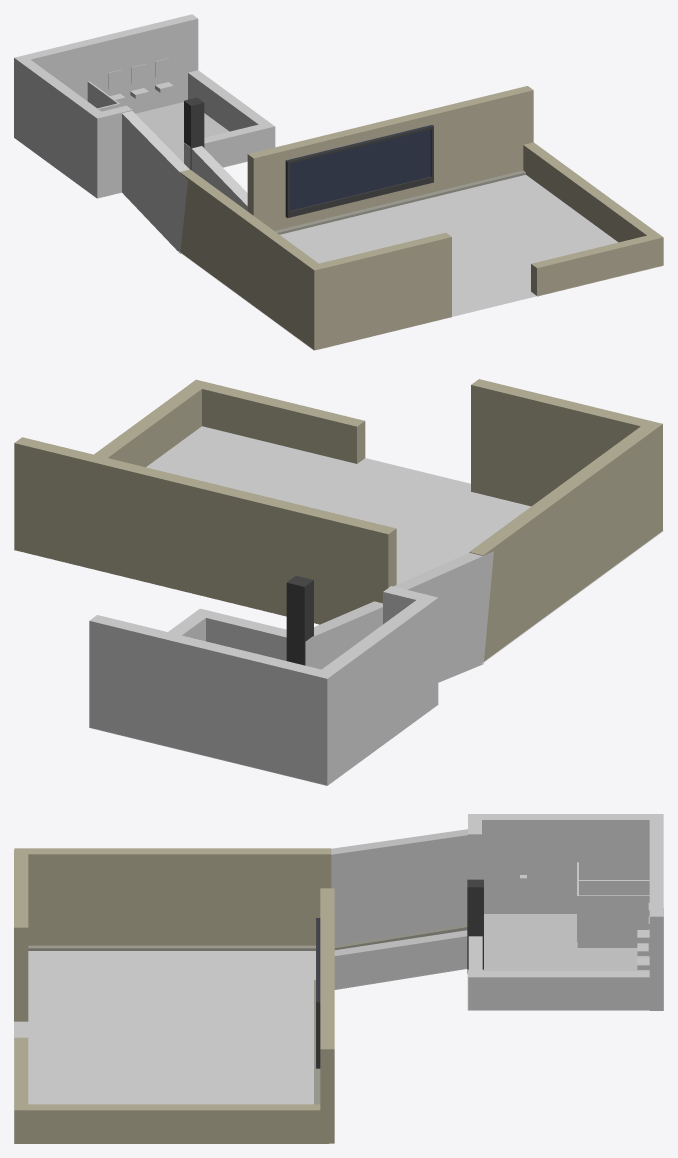
File: Bunker restroom.fbx
3 renders of one model, top to bottom at view 1: azimuth 30°, elevation 25°; view 2: azimuth 150°, elevation 25°; view 3: azimuth 270°, elevation 25°, orthographic. The views are drawn at different scales.
Visible parts, largest first — view 1: PM3D_Plane3D164; view 2: PM3D_Plane3D164; view 3: PM3D_Plane3D164.
Part boxes in pixels (x1=…): PM3D_Plane3D164: x1=14, y1=14, x2=663, y2=350; PM3D_Plane3D164: x1=14, y1=379, x2=663, y2=785; PM3D_Plane3D164: x1=14, y1=814, x2=663, y2=1143.
Bounding box in the file's own units: 2003 × 508 × 2558.
